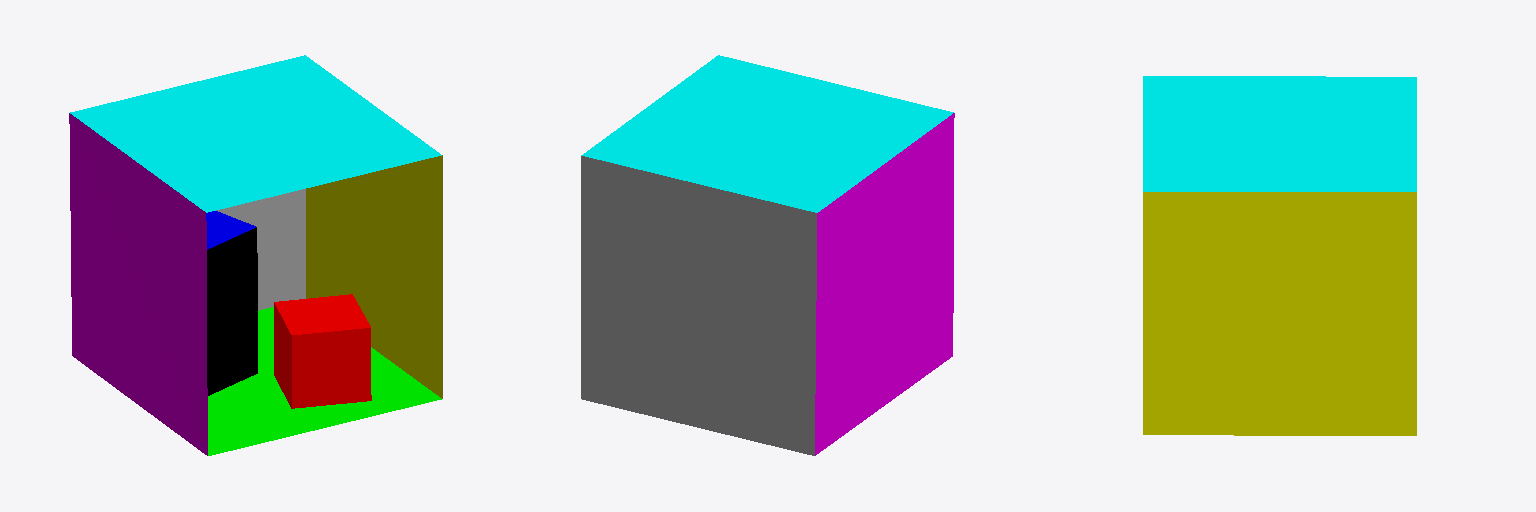
File: cornell-box.obj
The picture shows the model from 3 angles: view 1: azimuth 30°, elevation 25°; view 2: azimuth 150°, elevation 25°; view 3: azimuth 270°, elevation 25°; orthographic projection.
Visible parts, largest first — view 1: left_wall, ceiling, right_wall, floor, short_box, tall_box_front, back_wall, tall_box; view 2: back_wall, left_wall, ceiling; view 3: right_wall, ceiling.
Part boxes in pixels (left/top/right/bottom): left_wall: left=69, top=113, right=207, bottom=455; ceiling: left=70, top=55, right=441, bottom=212; right_wall: left=306, top=155, right=442, bottom=398; floor: left=208, top=307, right=441, bottom=455; short_box: left=274, top=294, right=371, bottom=408; tall_box_front: left=207, top=227, right=257, bottom=395; back_wall: left=216, top=189, right=305, bottom=310; tall_box: left=206, top=211, right=255, bottom=249; back_wall: left=581, top=156, right=816, bottom=455; left_wall: left=815, top=113, right=954, bottom=455; ceiling: left=581, top=55, right=953, bottom=212; right_wall: left=1143, top=192, right=1416, bottom=435; ceiling: left=1143, top=76, right=1416, bottom=191.
Size of the model in its own units: 5.56 by 5.49 by 5.6.